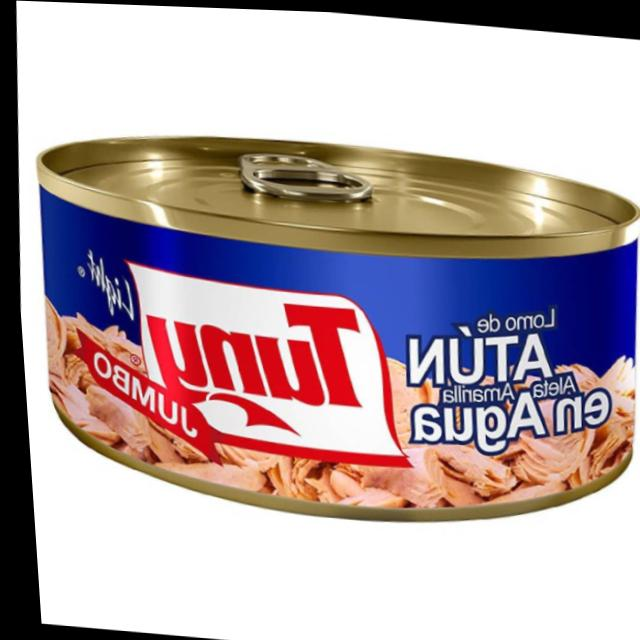Lata: (14, 109, 640, 537)
